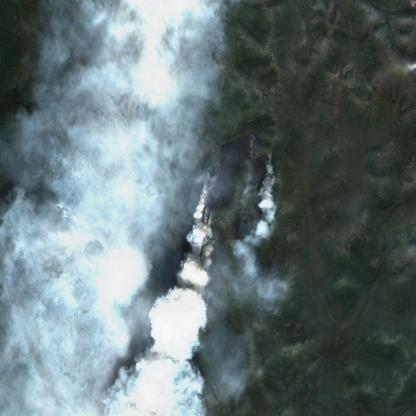fire: (198, 176, 216, 223), (264, 146, 275, 174), (247, 128, 256, 147)
